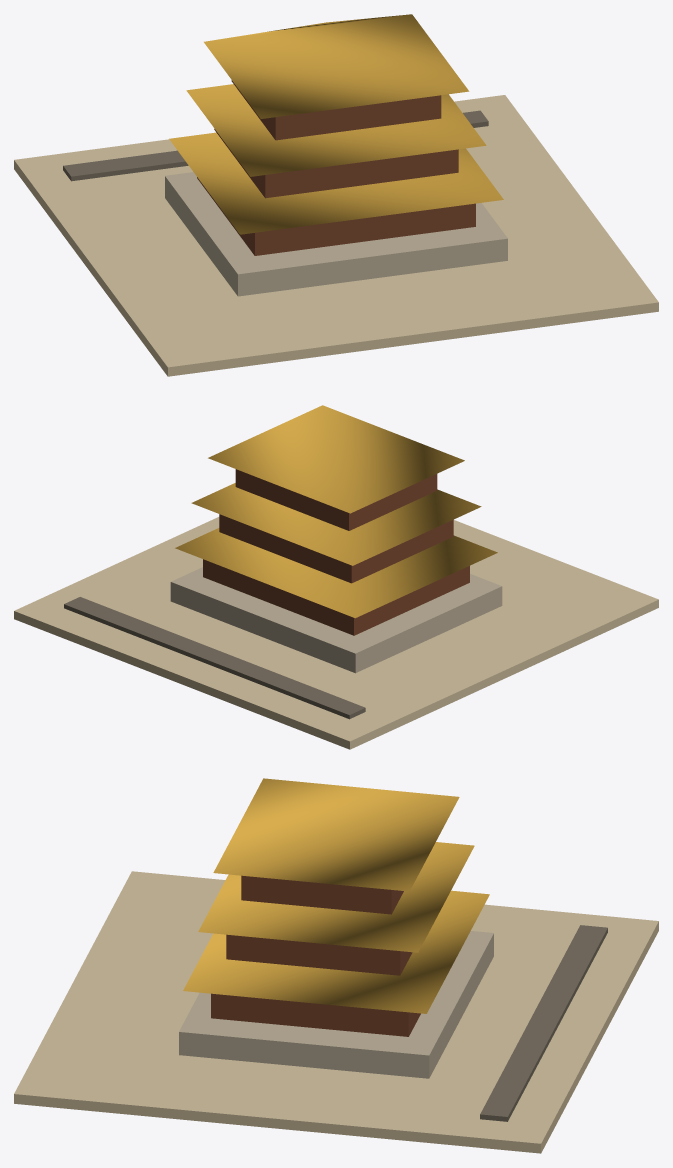
Rendered from model-medium.glb.
The picture shows the model from 3 angles, top to bottom: view 1: azimuth 30°, elevation 25°; view 2: azimuth 150°, elevation 25°; view 3: azimuth 270°, elevation 25°; orthographic projection. The views are drawn at different scales.
Parts seen in each view (by area): view 1: context_site_plinth, pavilion_roof_3, pavilion_terrace, pavilion_roof_1, pavilion_roof_2, pavilion_floor_1, pavilion_floor_2, pavilion_floor_3, front_scale_strip; view 2: context_site_plinth, pavilion_roof_3, pavilion_terrace, pavilion_roof_1, pavilion_roof_2, front_scale_strip, pavilion_floor_1, pavilion_floor_2, pavilion_floor_3; view 3: context_site_plinth, pavilion_roof_3, pavilion_terrace, pavilion_roof_1, pavilion_roof_2, front_scale_strip, pavilion_floor_1, pavilion_floor_2, pavilion_floor_3.
Part boxes in pixels (x1,y1,x2,y2): context_site_plinth: (14, 95, 658, 376); pavilion_roof_3: (204, 14, 469, 118); pavilion_terrace: (165, 172, 507, 296); pavilion_roof_1: (169, 132, 503, 234); pavilion_roof_2: (186, 84, 486, 176); pavilion_floor_1: (197, 177, 475, 255); pavilion_floor_2: (214, 129, 458, 198); pavilion_floor_3: (231, 80, 441, 140); front_scale_strip: (63, 110, 488, 181); context_site_plinth: (14, 517, 658, 749); pavilion_roof_3: (208, 405, 464, 513); pavilion_terrace: (170, 567, 502, 673); pavilion_roof_1: (175, 528, 497, 618); pavilion_roof_2: (191, 483, 481, 565); front_scale_strip: (64, 597, 365, 719); pavilion_floor_1: (203, 559, 469, 635); pavilion_floor_2: (219, 514, 453, 583); pavilion_floor_3: (235, 469, 437, 530); context_site_plinth: (14, 871, 658, 1153); pavilion_roof_3: (213, 778, 459, 891); pavilion_terrace: (179, 931, 493, 1078); pavilion_roof_1: (183, 890, 489, 1013); pavilion_roof_2: (198, 842, 474, 952); front_scale_strip: (480, 925, 607, 1121); pavilion_floor_1: (211, 993, 420, 1036); pavilion_floor_2: (226, 934, 412, 975); pavilion_floor_3: (241, 875, 403, 914).
Size of the model in its own units: 9.55 by 3.5 by 9.55.
